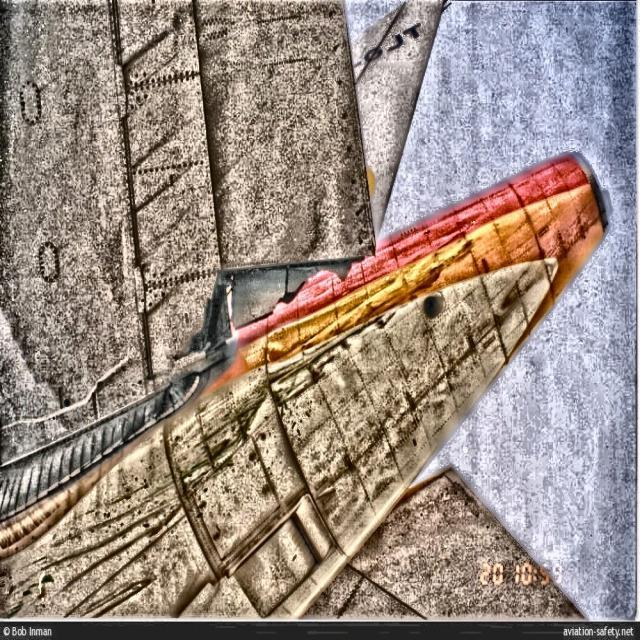crack: (171, 258, 365, 366)
